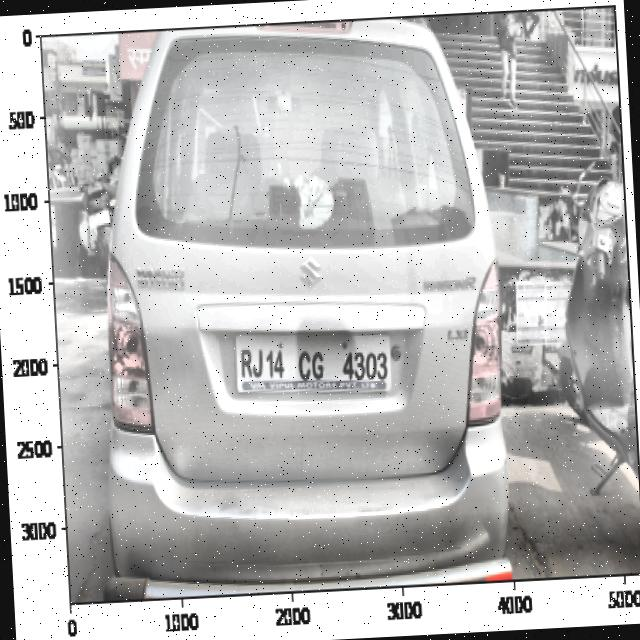license_plate: (236, 330, 390, 391)
